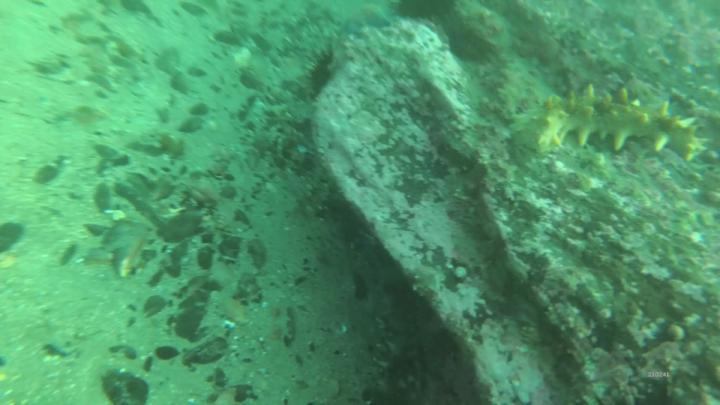echinus: (451, 30, 491, 65), (400, 2, 454, 20), (310, 57, 334, 94)
holothurian: (527, 84, 709, 162), (382, 287, 427, 405)
